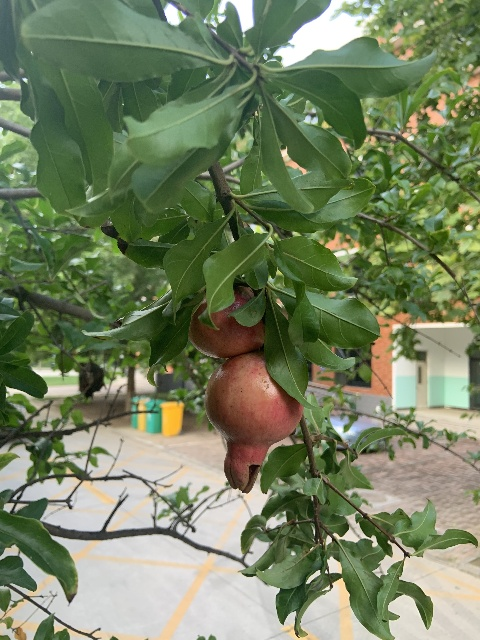ripe: (204, 351, 303, 493), (188, 285, 267, 360)
